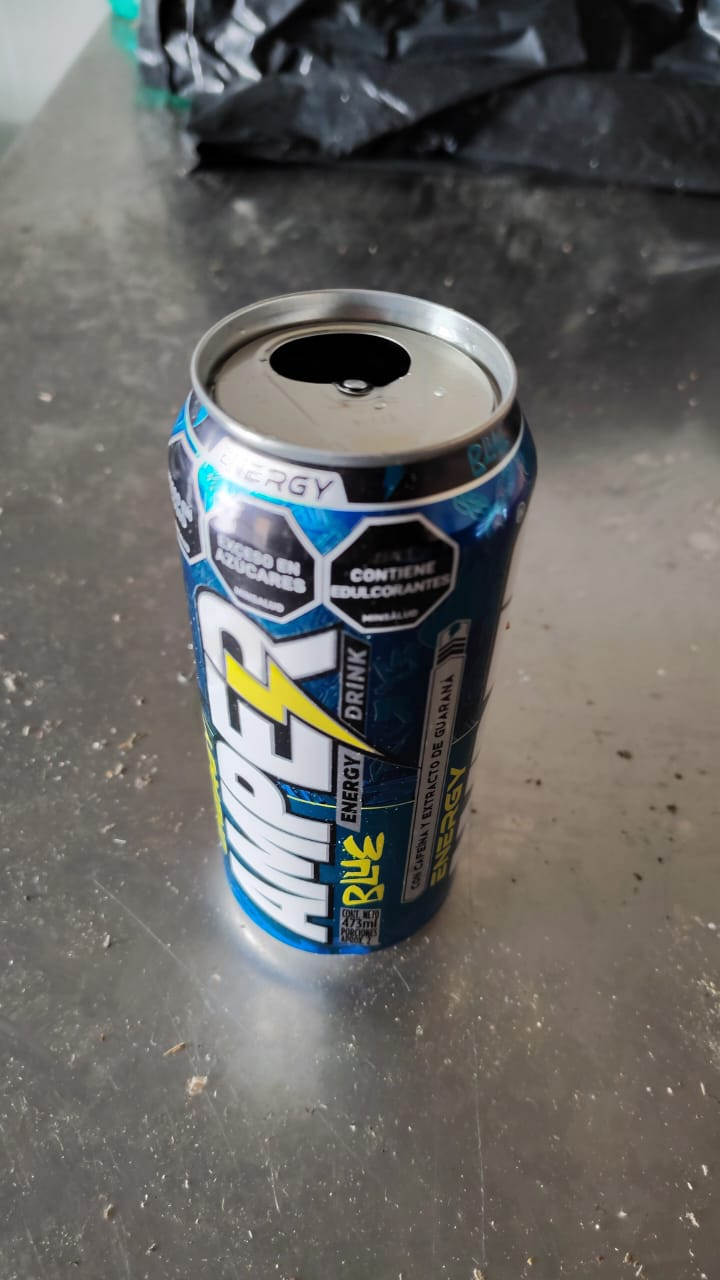Metal: (164, 287, 534, 959)
